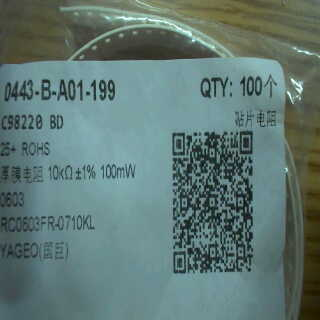10kR: (44, 161, 75, 184)
